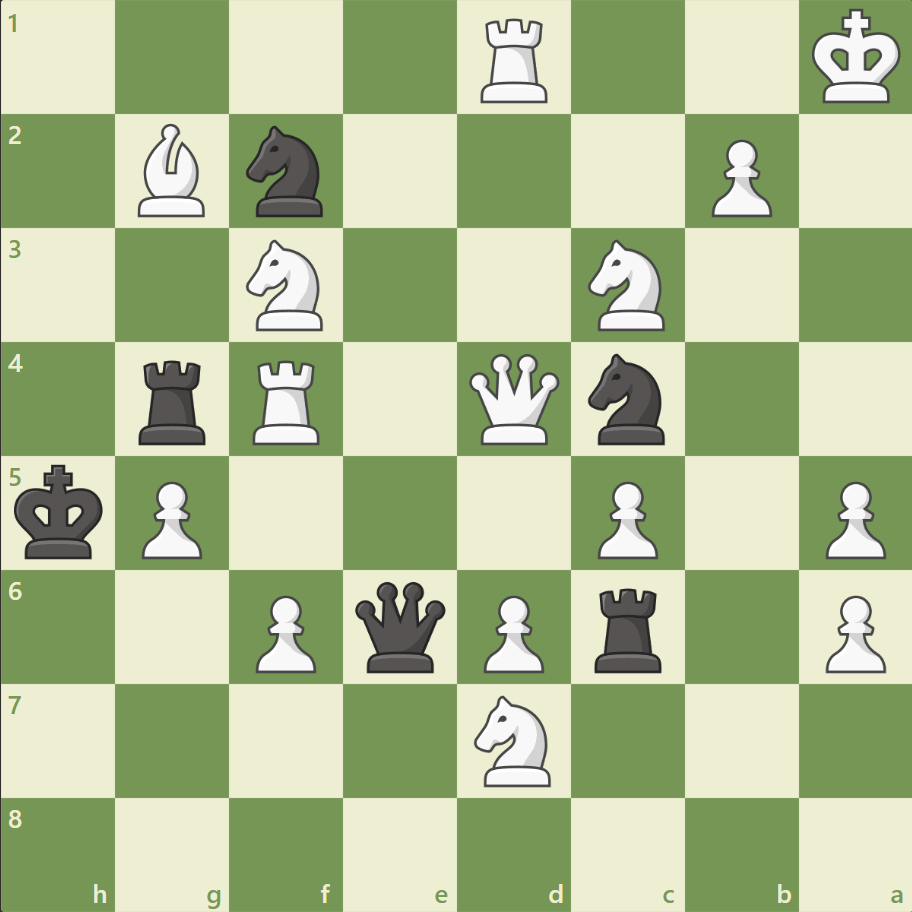B: (131, 120, 215, 222)
K: (806, 4, 906, 112)
N: (465, 688, 562, 791), (579, 234, 676, 337), (238, 234, 335, 337)
P: (474, 586, 549, 677), (247, 586, 322, 677), (133, 473, 208, 564), (701, 132, 776, 223), (815, 586, 889, 677), (815, 473, 889, 564), (588, 473, 662, 564)
Q: (464, 349, 563, 449)
R: (246, 352, 329, 449), (473, 12, 556, 109)
k: (11, 458, 111, 566)
n: (579, 348, 676, 450), (238, 121, 335, 223)
q: (351, 576, 450, 676)
r: (587, 579, 670, 676), (133, 352, 215, 449)
